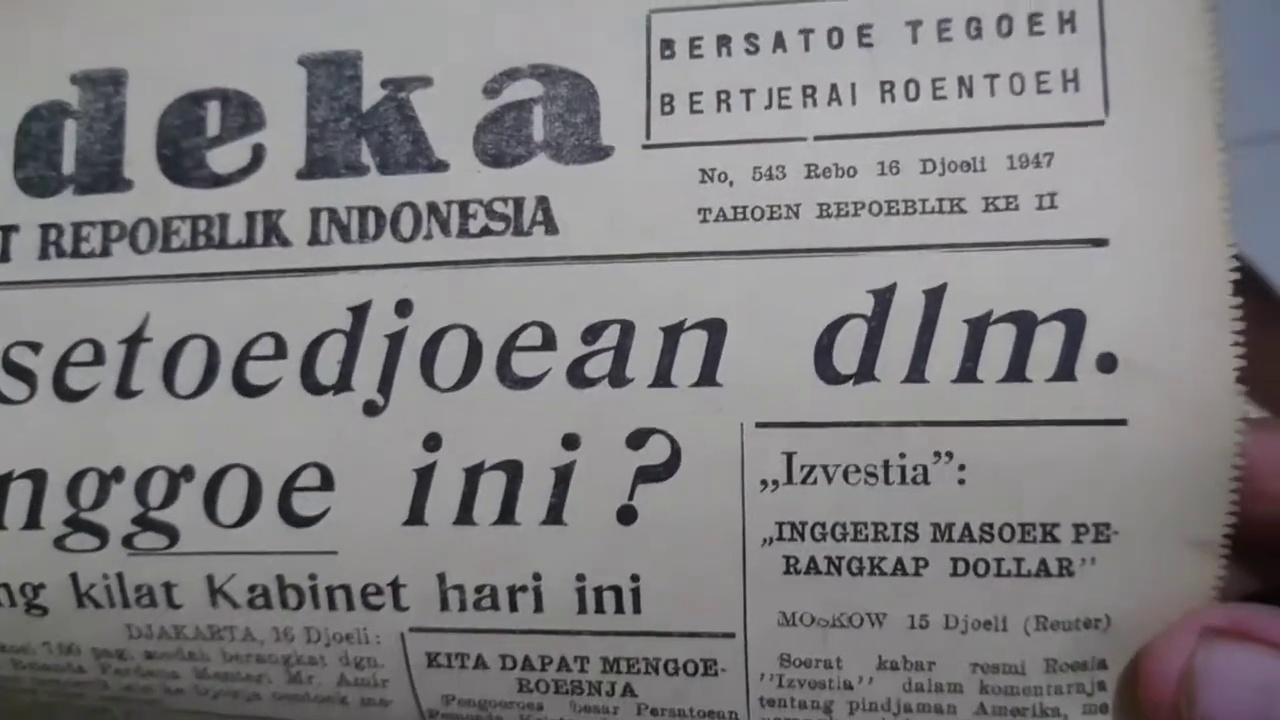Kertas: (0, 0, 1252, 718)
